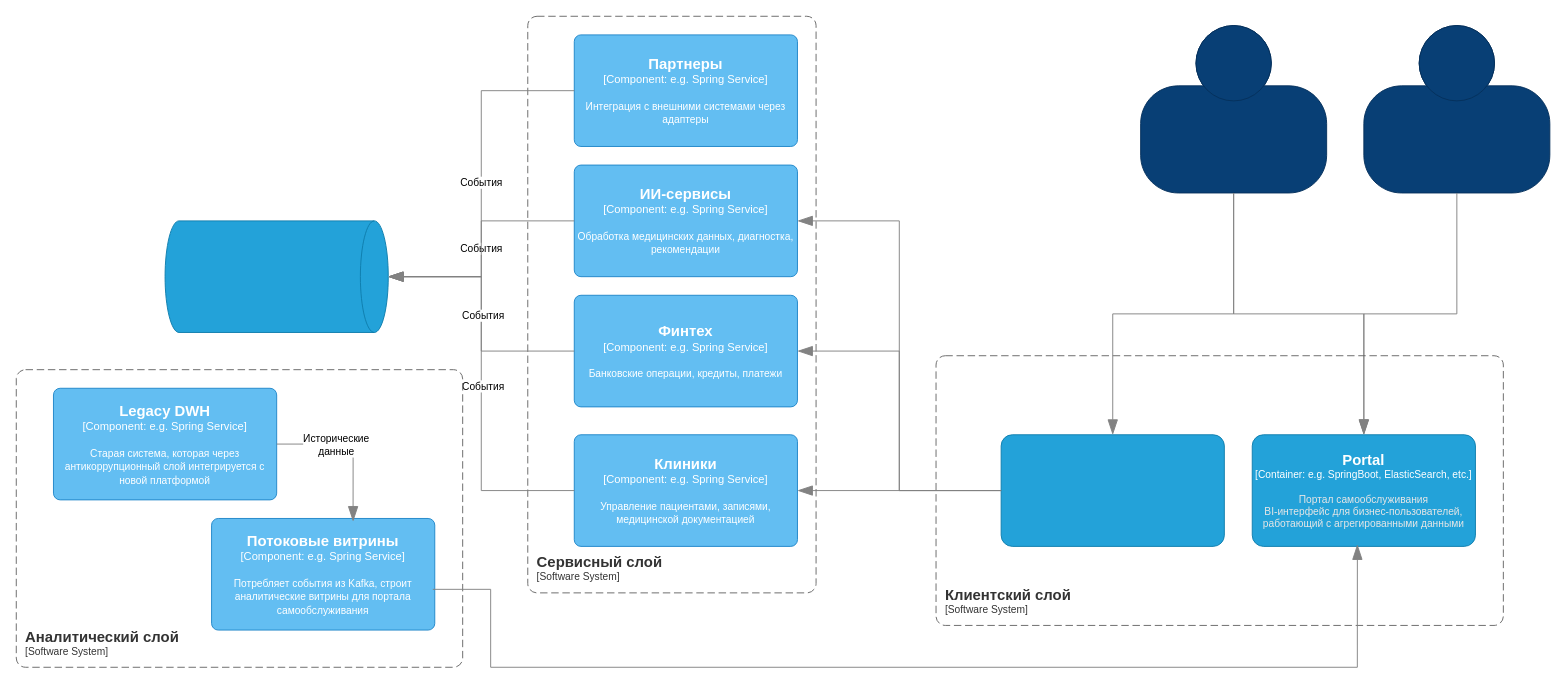
The diagram is 1566 pixels wide and 698 high, and some of its shapes have lost their labels. Each missing label, with the centre of its shape:
"Event Broker [Container: Apache Kafka] Центральная шина событий" goes at pixel 276 276.
"Аналитики [Person] Description of person." goes at pixel 1456 109.
"Доменные сервисы [Container: e.g. SpringBoot, ElasticSearch, etc.]" goes at pixel 1112 490.
"Операторы и врачи [Person] Description of person." goes at pixel 1233 109.
